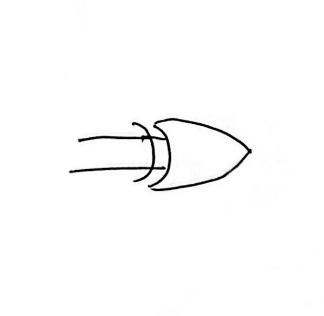XOR: (126, 111, 279, 202)
